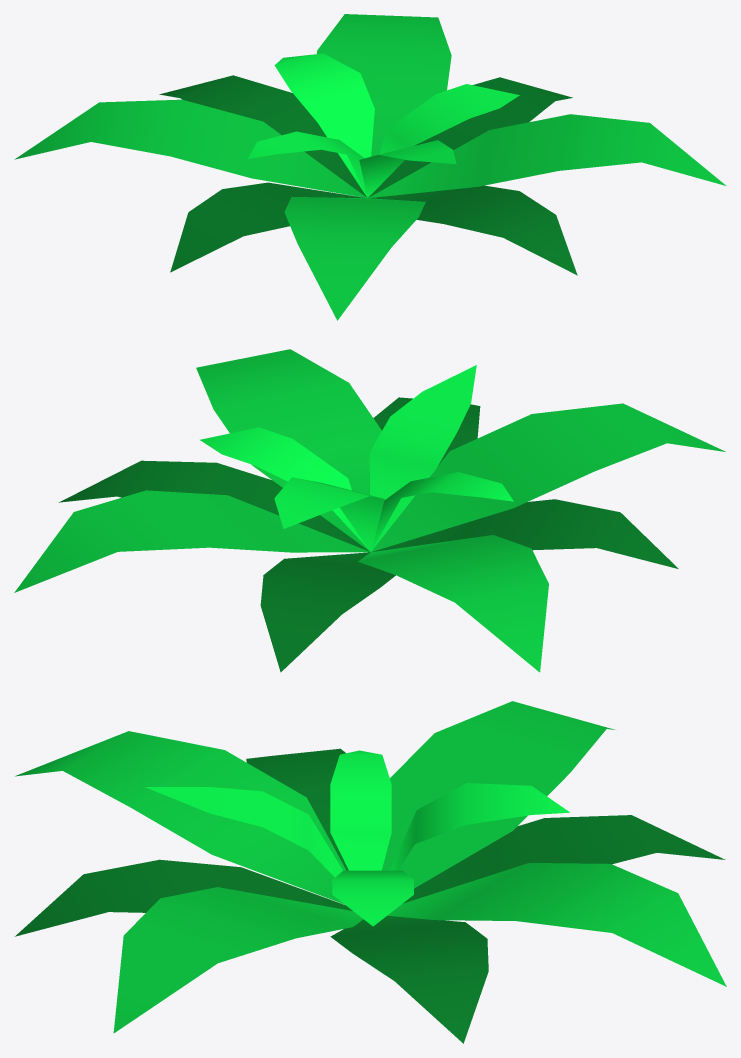
File: Grass.FBX
The picture shows the model from 3 angles, top to bottom: view 1: azimuth 30°, elevation 25°; view 2: azimuth 150°, elevation 25°; view 3: azimuth 270°, elevation 25°; orthographic projection. The views are drawn at different scales.
Parts seen in each view (by area): view 1: grass1; view 2: grass1; view 3: grass1.
Boxes of the visible parts, x1,y1,x2,y2 form: grass1: (14, 14, 725, 320); grass1: (14, 349, 725, 672); grass1: (14, 701, 726, 1043).
Size of the model in its own units: 20.31 by 3.91 by 20.17.
